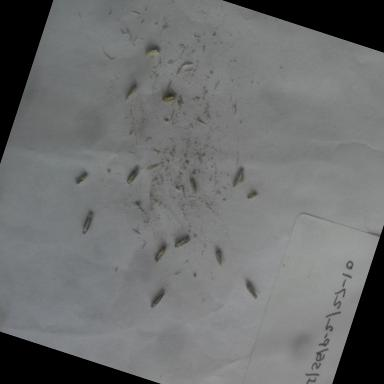pbw: (72, 208, 100, 240), (168, 228, 195, 258), (124, 164, 144, 188), (240, 280, 262, 301), (148, 288, 167, 312), (158, 87, 178, 109), (150, 242, 168, 266), (122, 82, 140, 104), (210, 248, 228, 268), (72, 170, 90, 188), (185, 176, 201, 196), (231, 167, 244, 190), (143, 46, 161, 61), (244, 188, 258, 204), (236, 168, 247, 184)
